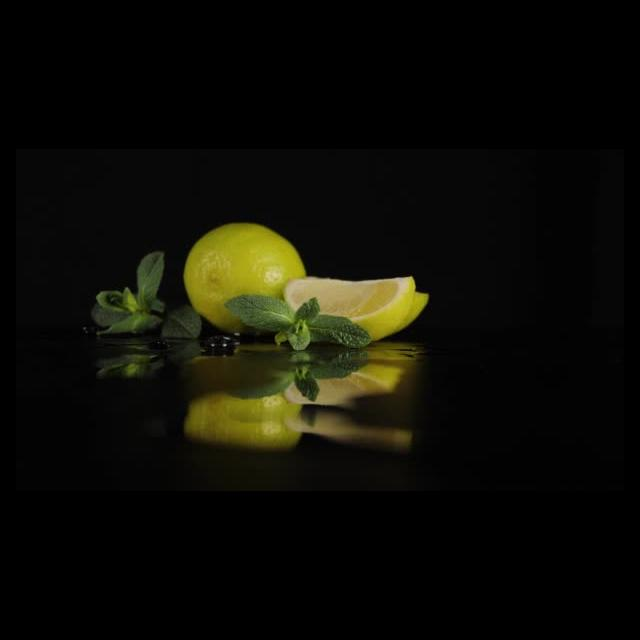lime: (182, 215, 308, 336)
